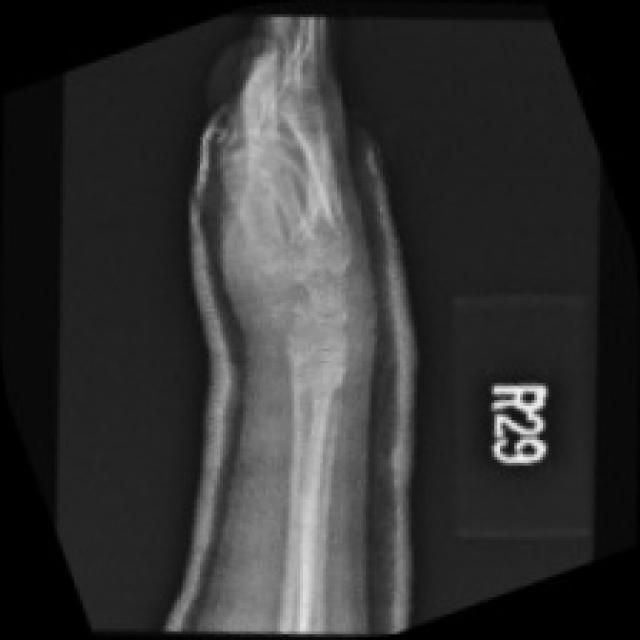fracture: (218, 166, 380, 414)
